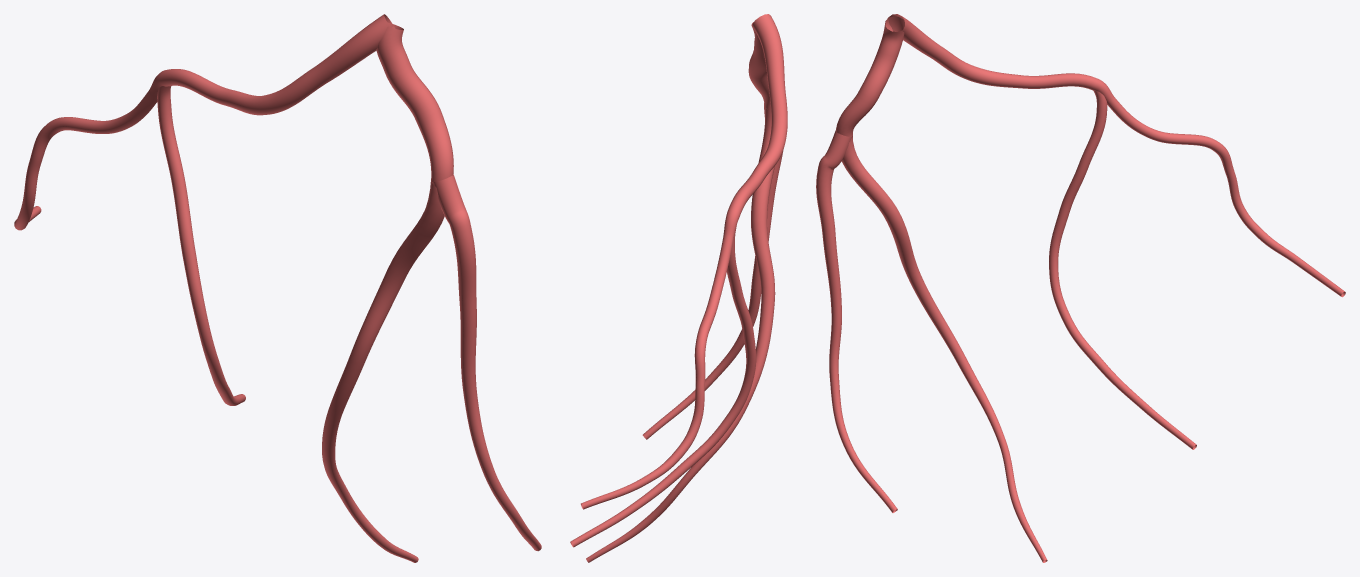
Rendered from Anterior_temporal_branch.r_BezierCurve.200.glb.
The picture shows the model from 3 angles, left to right: view 1: azimuth 30°, elevation 25°; view 2: azimuth 150°, elevation 25°; view 3: azimuth 270°, elevation 25°; orthographic projection. The views are drawn at different scales.
Parts seen in each view (by area): view 1: Anterior_temporal_branch.r_BezierCurve.200; view 2: Anterior_temporal_branch.r_BezierCurve.200; view 3: Anterior_temporal_branch.r_BezierCurve.200.
Part boxes in pixels (left/top/right/bottom): Anterior_temporal_branch.r_BezierCurve.200: left=14, top=14, right=541, bottom=562; Anterior_temporal_branch.r_BezierCurve.200: left=570, top=14, right=787, bottom=562; Anterior_temporal_branch.r_BezierCurve.200: left=816, top=14, right=1345, bottom=562.
Bounding box in the file's own units: 0.0201 × 0.042 × 0.0402.
